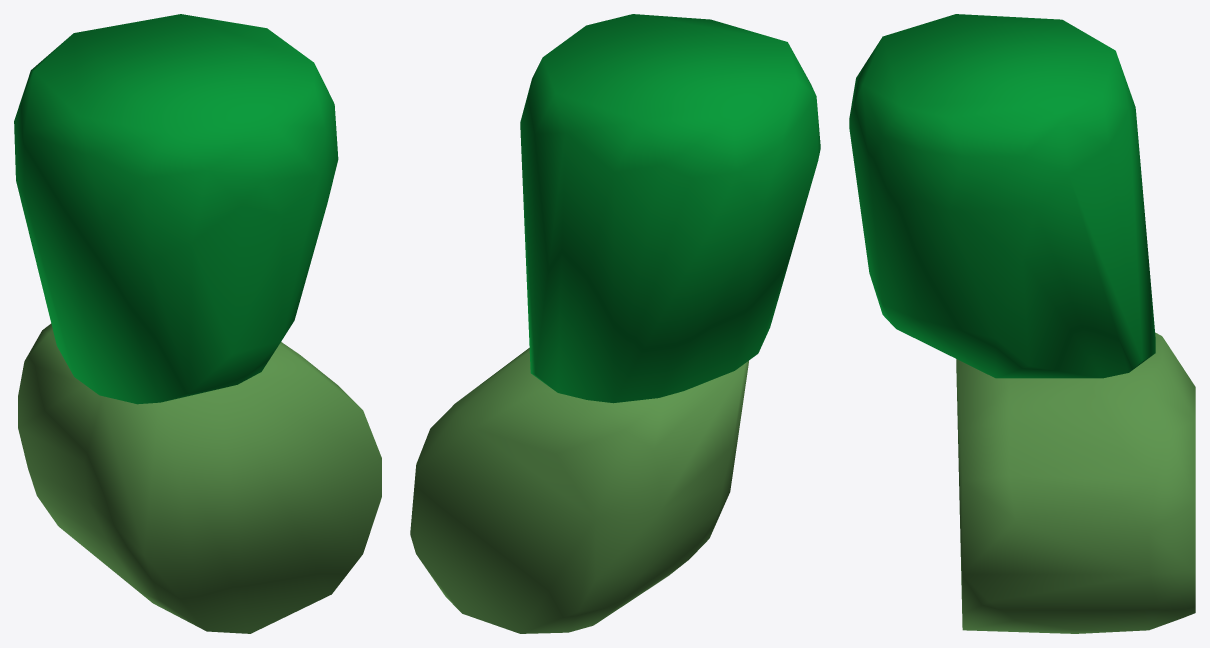
3 renders of one model, left to right at view 1: azimuth 30°, elevation 25°; view 2: azimuth 150°, elevation 25°; view 3: azimuth 270°, elevation 25°, orthographic. The views are drawn at different scales.
Bounding box in the file's own units: 0.1353 × 0.2237 × 0.1353.
